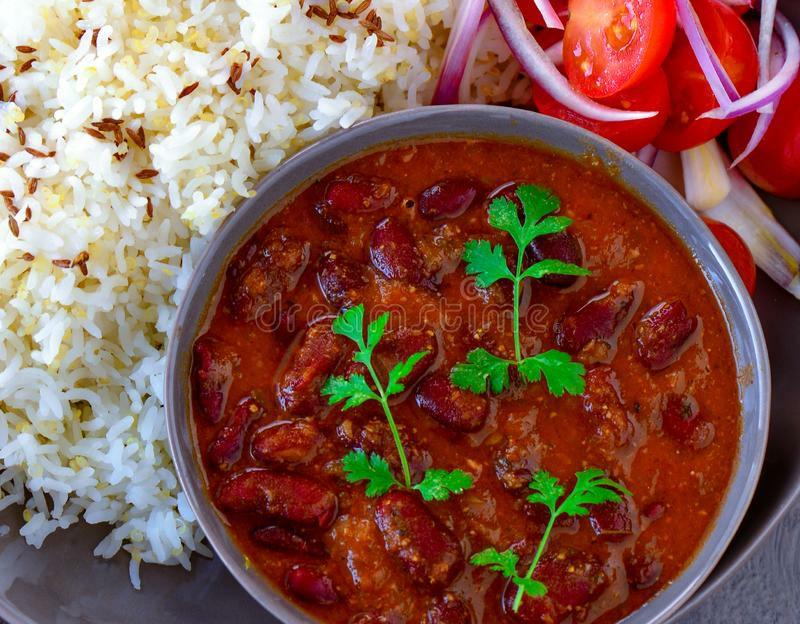RajmaCurry: (183, 133, 746, 624)
WhiteRice: (0, 0, 460, 591)
